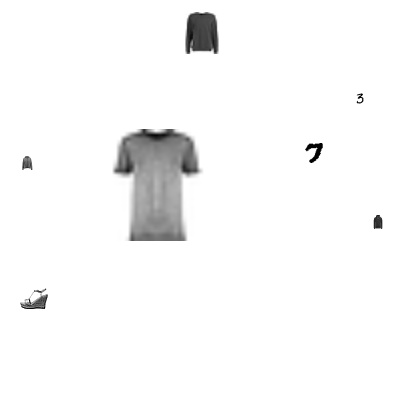3: (353, 91, 367, 105)
7: (301, 136, 329, 164)
Coat: (20, 156, 34, 170)
Pullover: (181, 12, 223, 54), (371, 215, 385, 229)
Sandal: (20, 284, 48, 312)
T-shirt/top: (102, 129, 214, 241)
